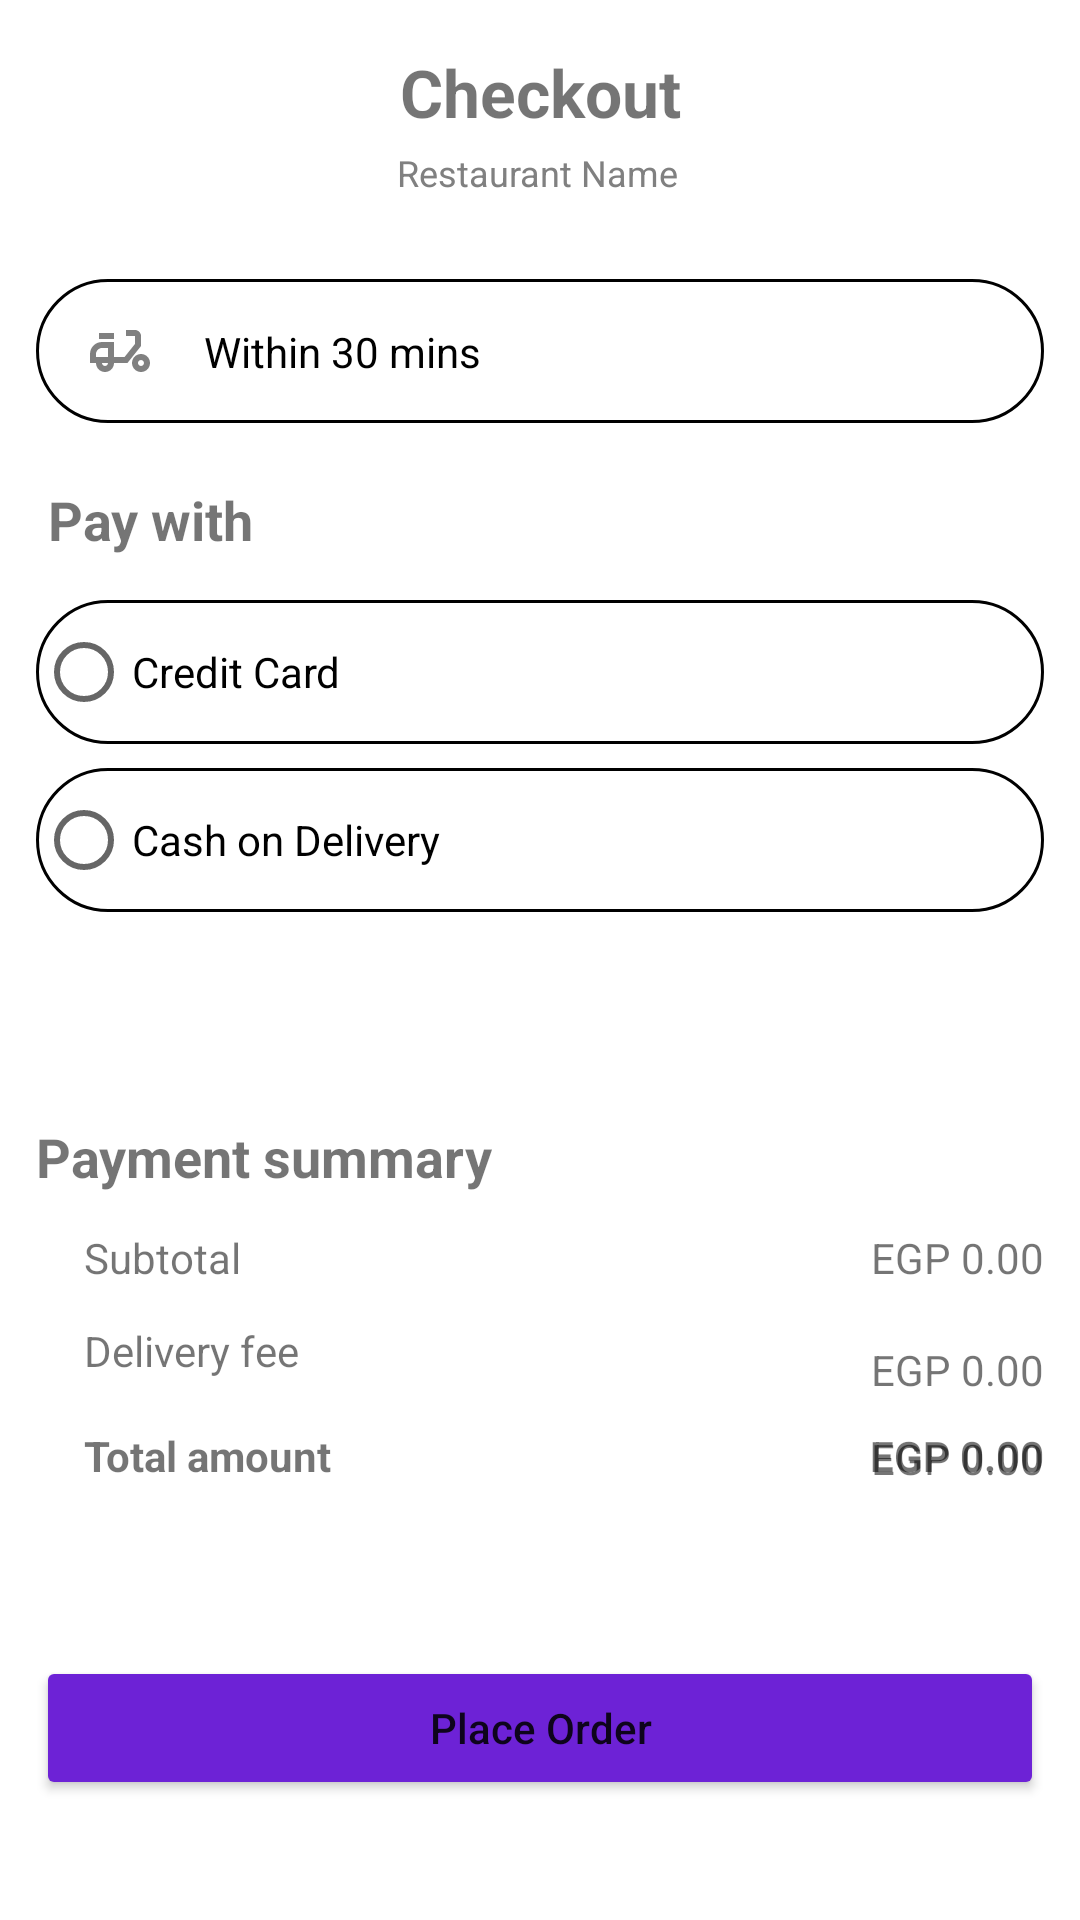

Locate icon controls on the screen. Image size 1080x1920, boxes as [x1=x1, y1=y1, x2=x2, y2=y2].
delivery: [x1=90, y1=330, x2=150, y2=372]
